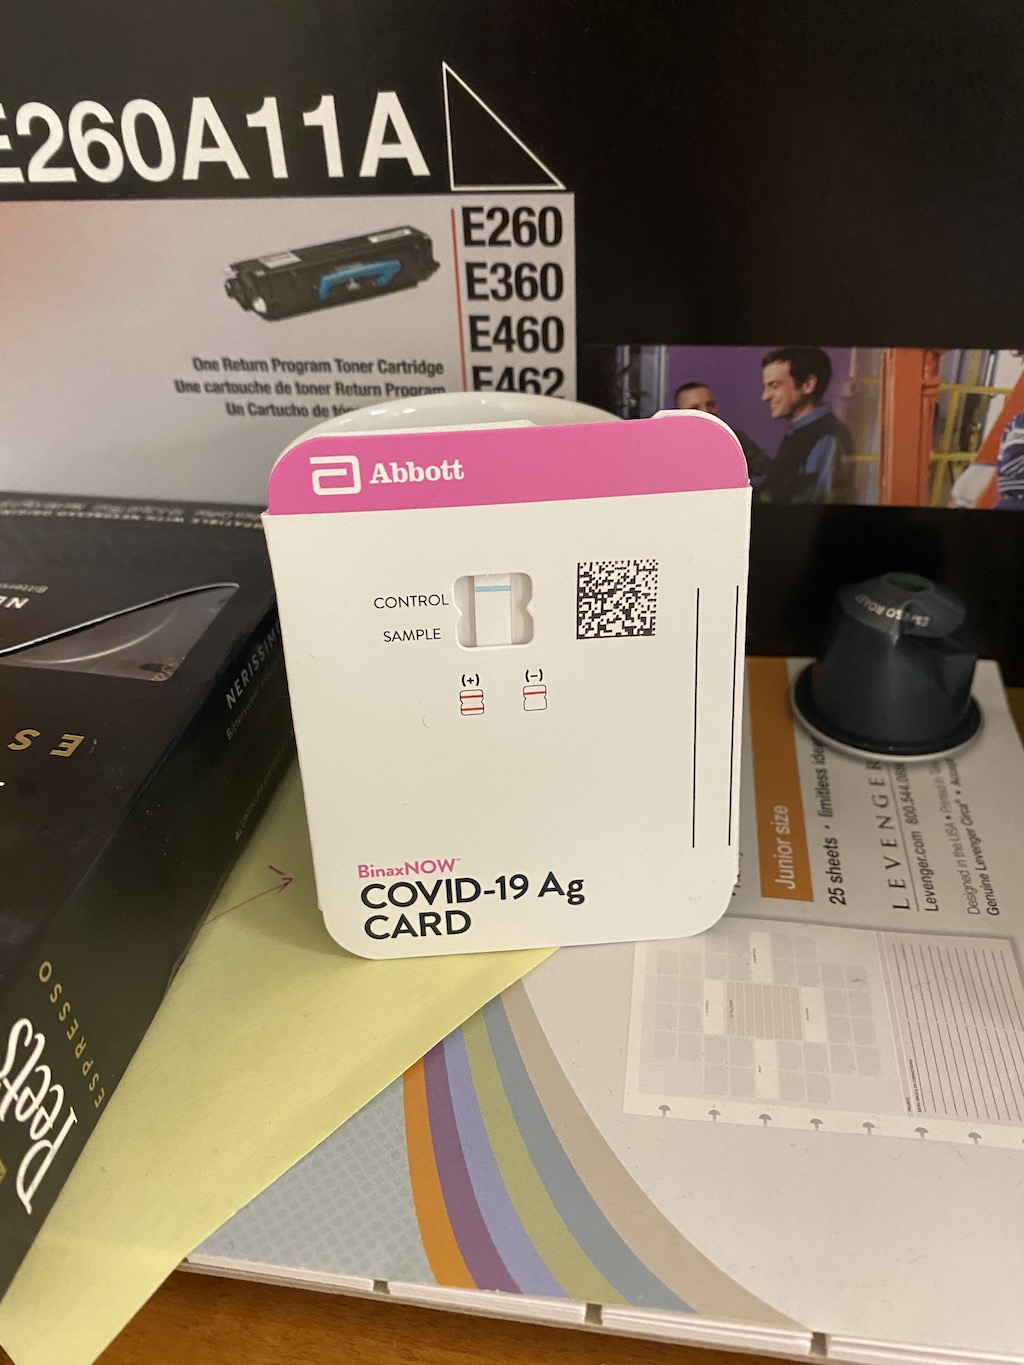binax-negative: (252, 414, 767, 962)
